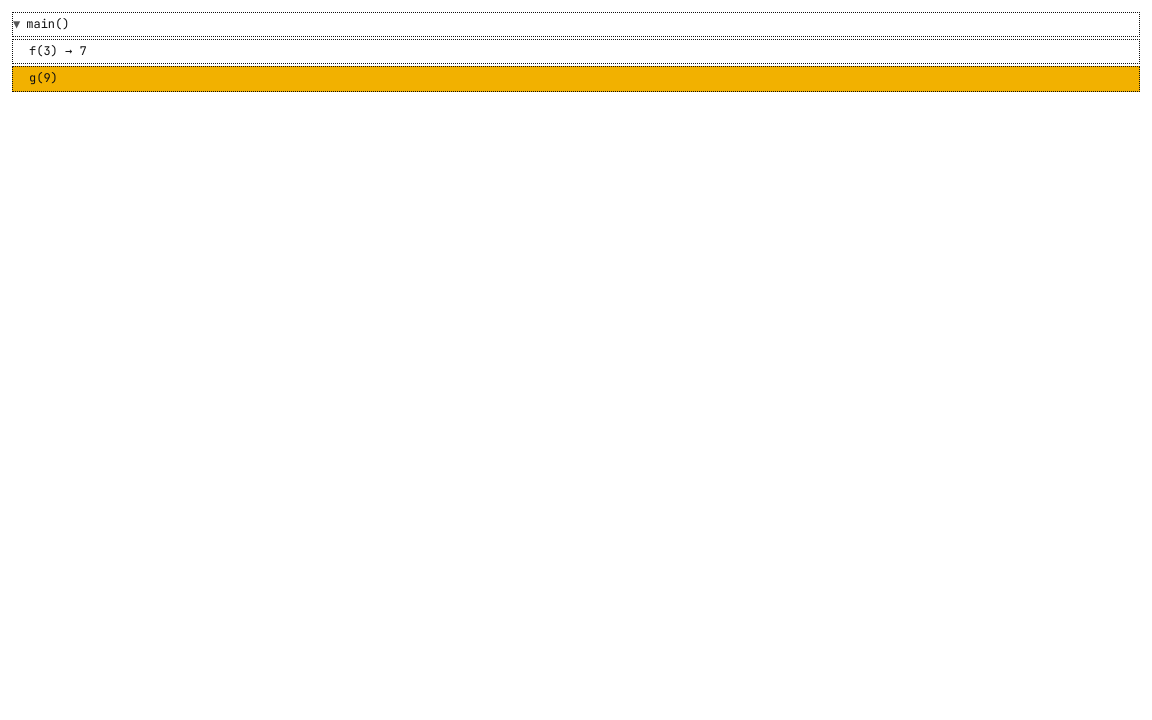
it: CallLogPanel › clicking a row opens NodeDetail and never changes the step
Click the button "g(9)" at (43, 78), box left=12, top=66, right=1140, bottom=92
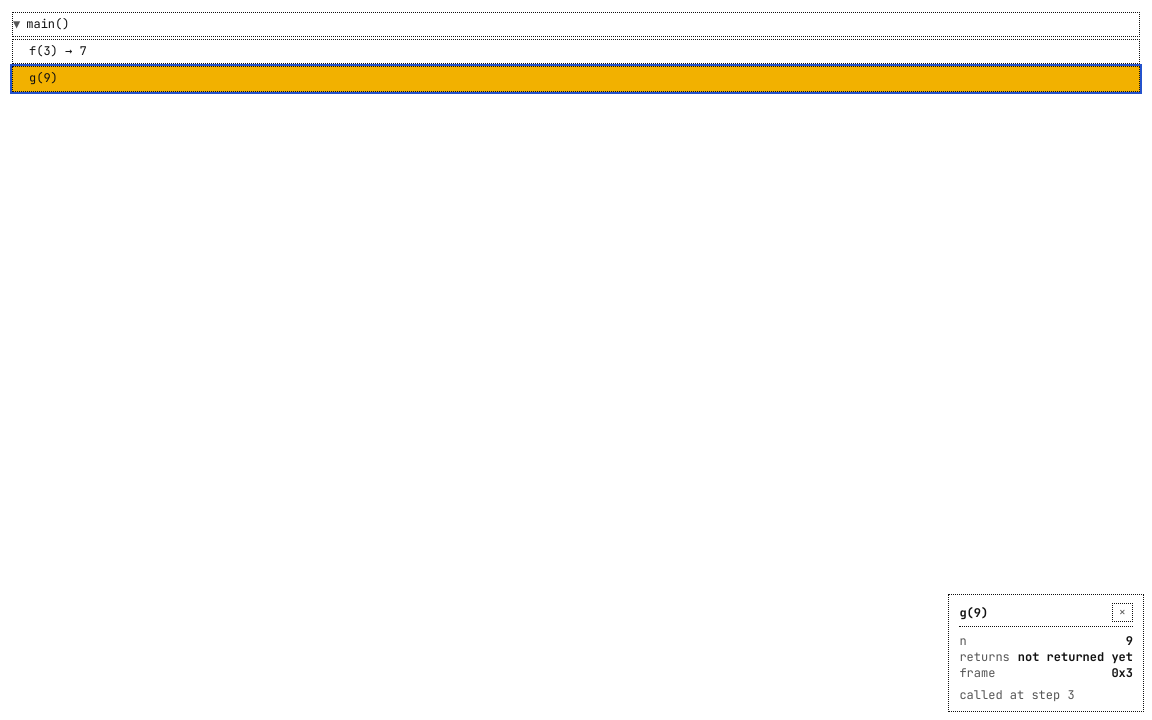
Now the element with test id "ct-detail" is shown, box left=948, top=594, right=1144, bottom=712
